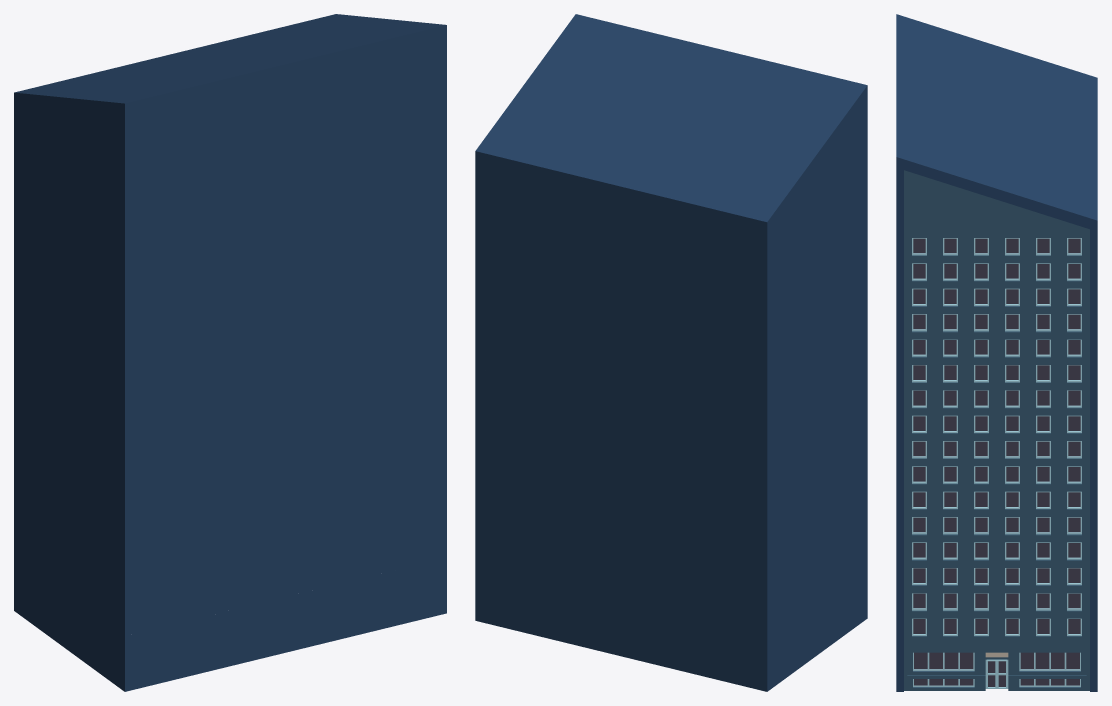
Rendered from Building14.fbx.
The picture shows the model from 3 angles, left to right: view 1: azimuth 30°, elevation 25°; view 2: azimuth 150°, elevation 25°; view 3: azimuth 270°, elevation 25°; orthographic projection. The views are drawn at different scales.
Parts seen in each view (by area): view 1: Plane.102, Plane.096, Plane.101, Plane.099, Plane.097, Plane.098, Plane.100, Plane.095, Plane.092, Plane.094; view 2: Plane.102, Plane.101, Plane.094, Plane.096, Plane.099, Plane.095, Plane.098, Plane.100, Plane.092, Plane.097; view 3: Plane.102, Plane.094, Plane.095, Plane.098, Plane.099, Plane.096, Plane.097, Plane.100, Plane.101, Plane.092.
Part boxes in pixels (x1=…): Plane.102: x1=14, y1=14, x2=446, y2=189; Plane.096: x1=14, y1=388, x2=446, y2=524; Plane.101: x1=14, y1=109, x2=446, y2=245; Plane.099: x1=14, y1=220, x2=446, y2=356; Plane.097: x1=14, y1=332, x2=446, y2=468; Plane.098: x1=14, y1=276, x2=446, y2=412; Plane.100: x1=14, y1=164, x2=446, y2=301; Plane.095: x1=14, y1=443, x2=446, y2=580; Plane.092: x1=14, y1=555, x2=446, y2=691; Plane.094: x1=14, y1=499, x2=446, y2=635; Plane.102: x1=475, y1=14, x2=867, y2=236; Plane.101: x1=475, y1=163, x2=867, y2=287; Plane.094: x1=475, y1=517, x2=867, y2=641; Plane.096: x1=475, y1=416, x2=867, y2=539; Plane.099: x1=475, y1=265, x2=867, y2=388; Plane.095: x1=475, y1=467, x2=867, y2=590; Plane.098: x1=475, y1=315, x2=867, y2=438; Plane.100: x1=475, y1=214, x2=867, y2=337; Plane.092: x1=475, y1=568, x2=867, y2=691; Plane.097: x1=475, y1=366, x2=867, y2=489; Plane.102: x1=896, y1=14, x2=1097, y2=235; Plane.094: x1=896, y1=589, x2=1097, y2=641; Plane.095: x1=896, y1=538, x2=1097, y2=590; Plane.098: x1=896, y1=386, x2=1097, y2=438; Plane.099: x1=896, y1=336, x2=1097, y2=387; Plane.096: x1=896, y1=488, x2=1097, y2=539; Plane.097: x1=896, y1=437, x2=1097, y2=488; Plane.100: x1=896, y1=285, x2=1097, y2=336; Plane.101: x1=896, y1=234, x2=1097, y2=285; Plane.092: x1=896, y1=640, x2=1097, y2=691.
Bounding box in the file's own units: 3020 × 5273 × 1800.
